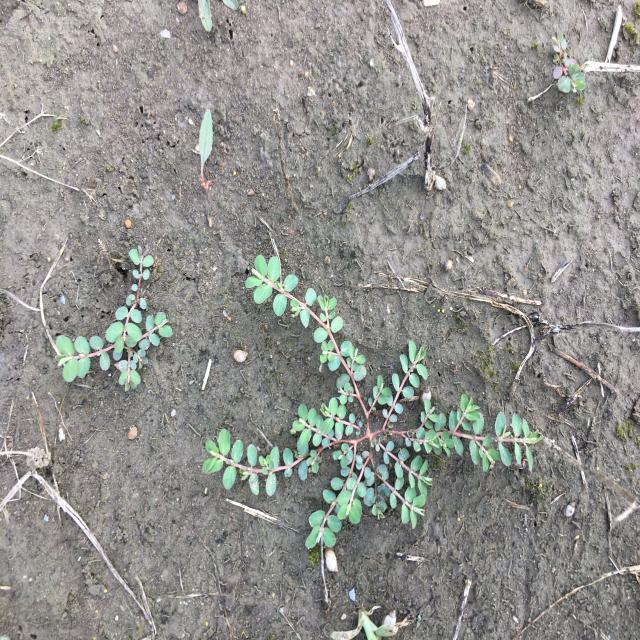SpottedSpurge: (201, 253, 545, 552), (53, 242, 174, 392), (548, 28, 588, 95)
